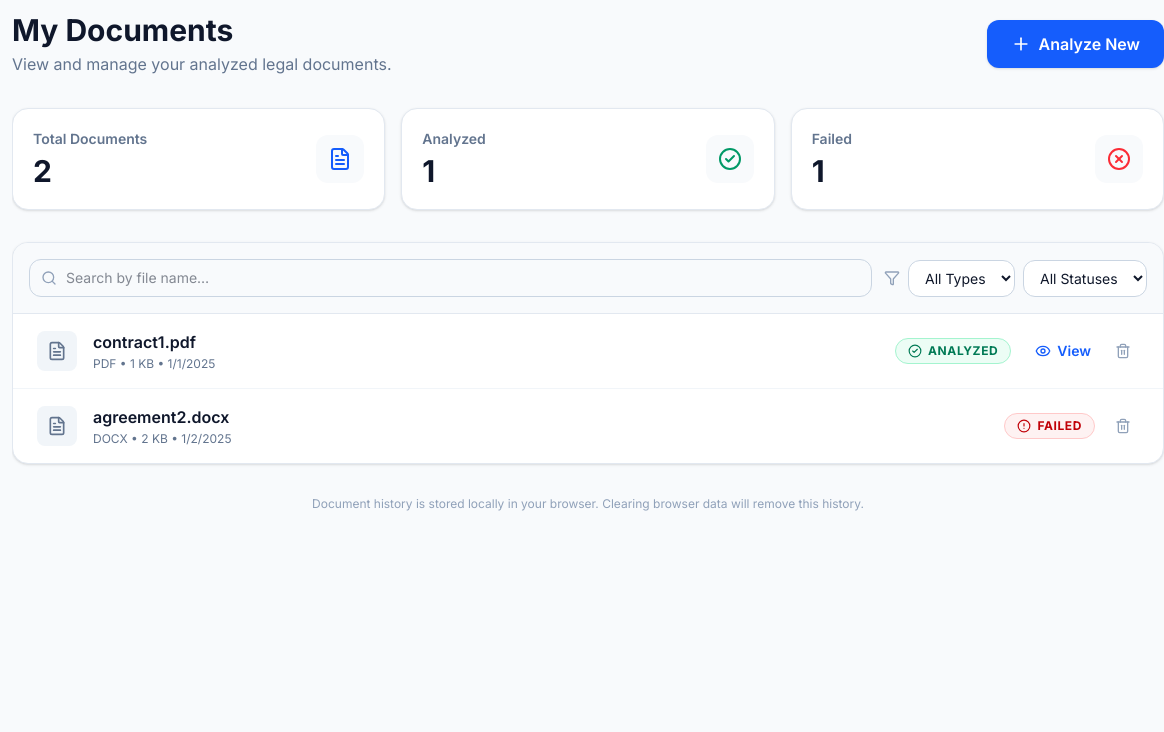
Test case: DashboardHome › filters documents by type
Select "DOCX" in the 1st dropdown named "Filter by file type" at (962, 278), box [908,260,1015,296]
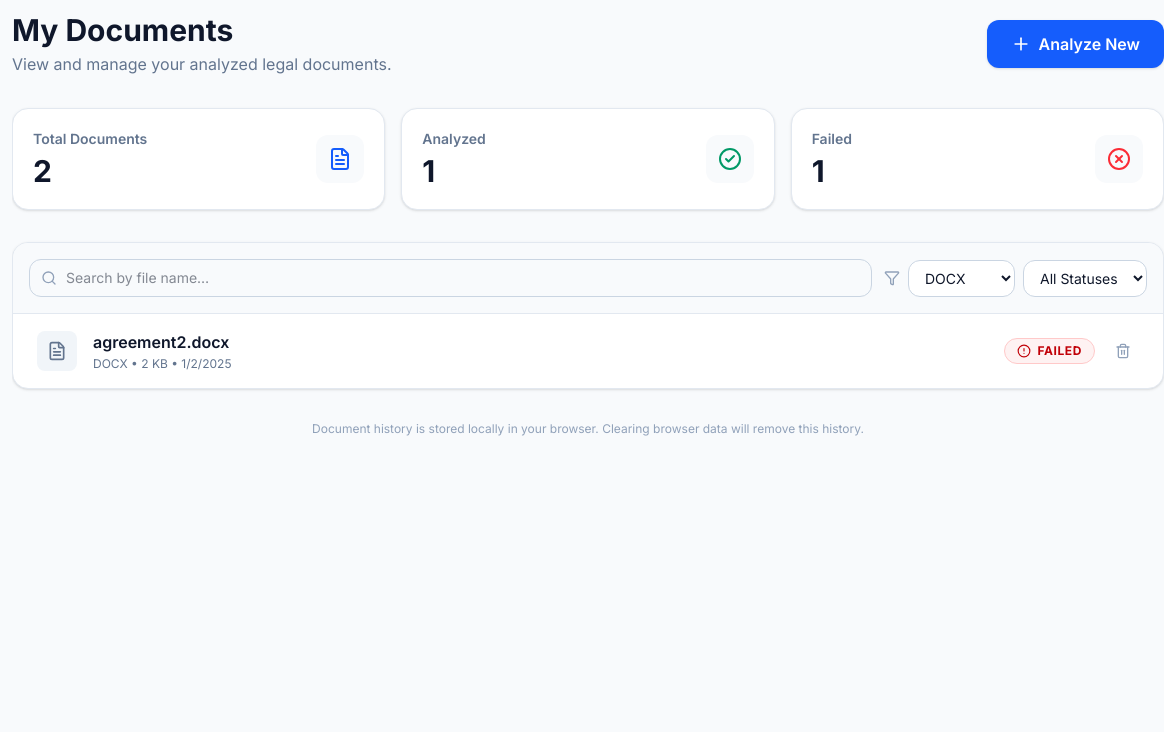
expect the text "agreement2.docx" is shown: met, box [93,330,232,354]
expect the text "contract1.pdf" is gone: met
